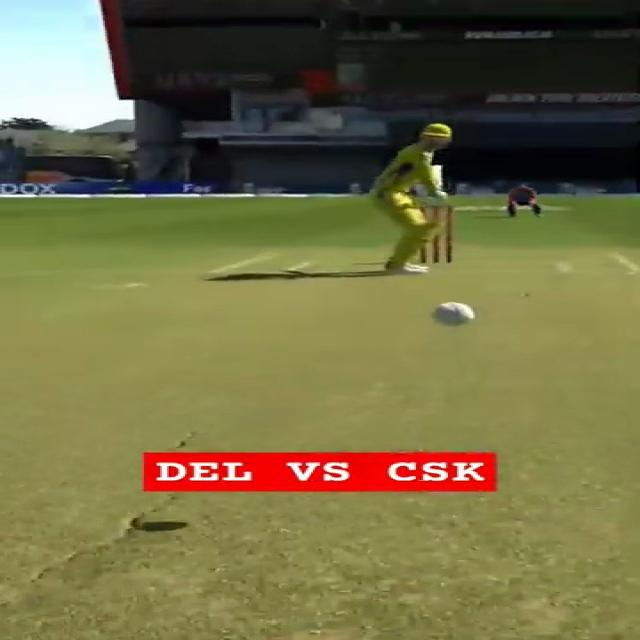ball: (430, 302, 476, 326)
